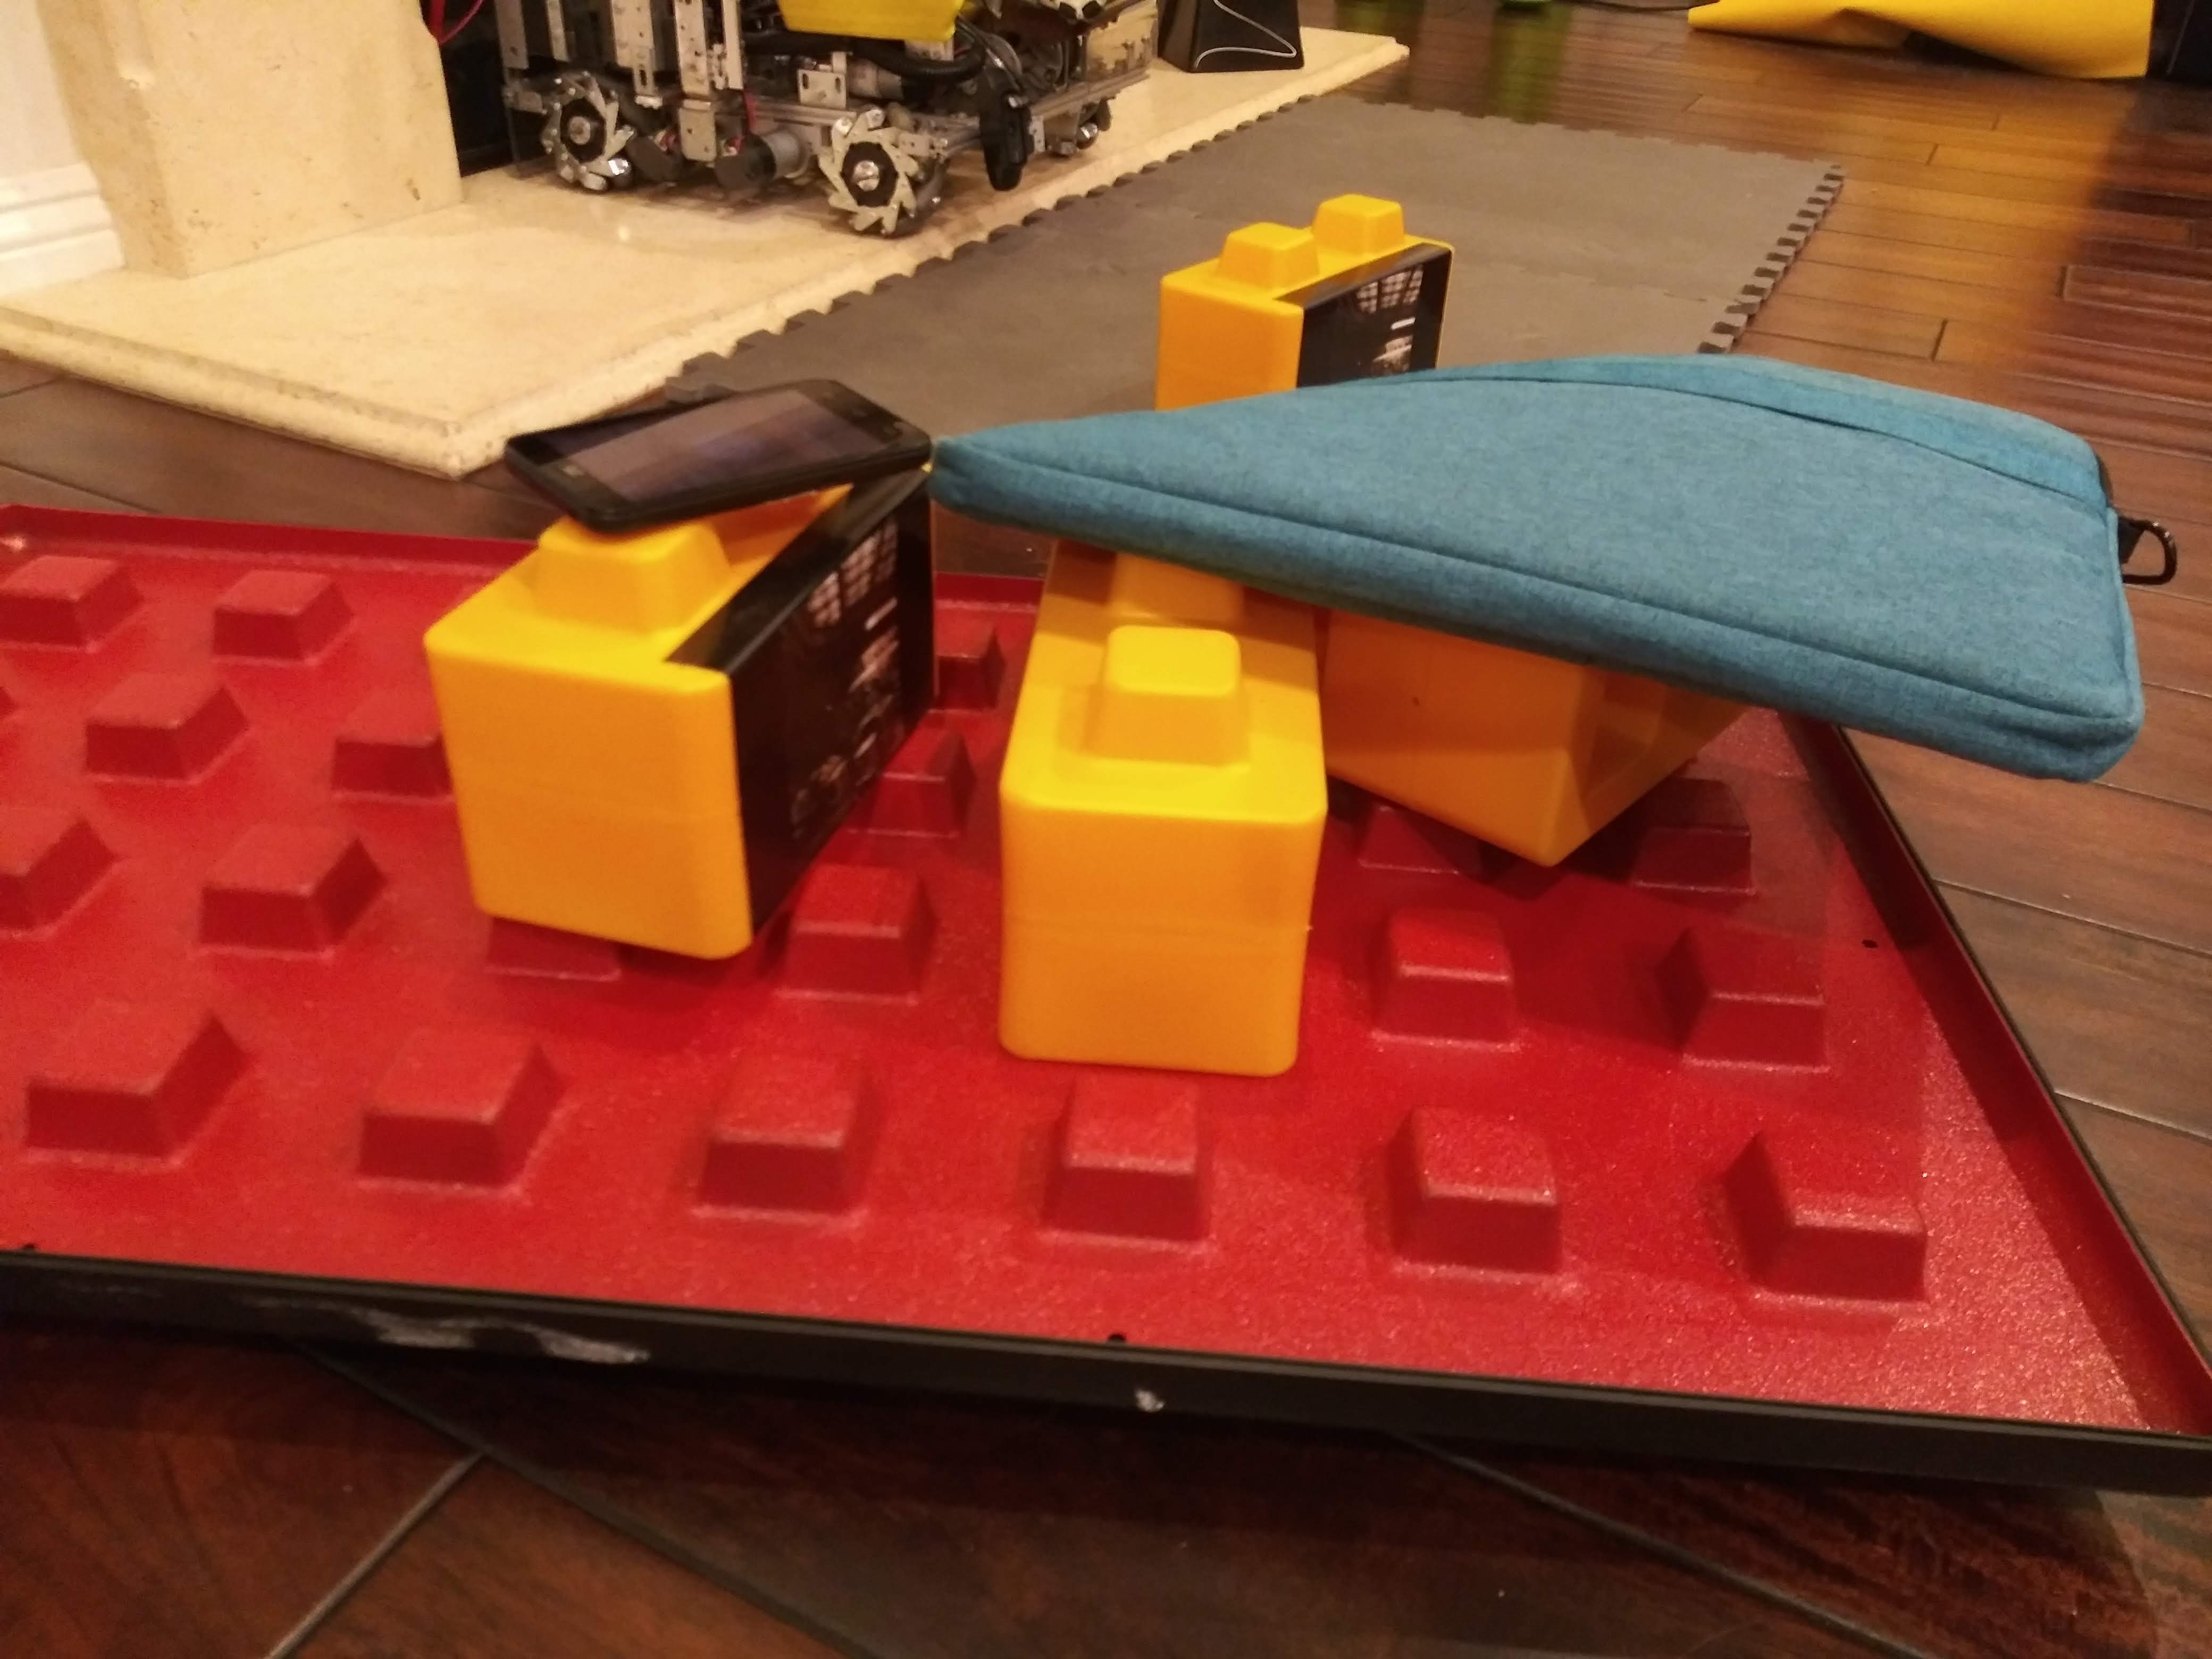skystone: (481, 469, 888, 932), (1150, 244, 1449, 380)
stone: (1047, 591, 1299, 1089), (1372, 652, 1620, 859)
